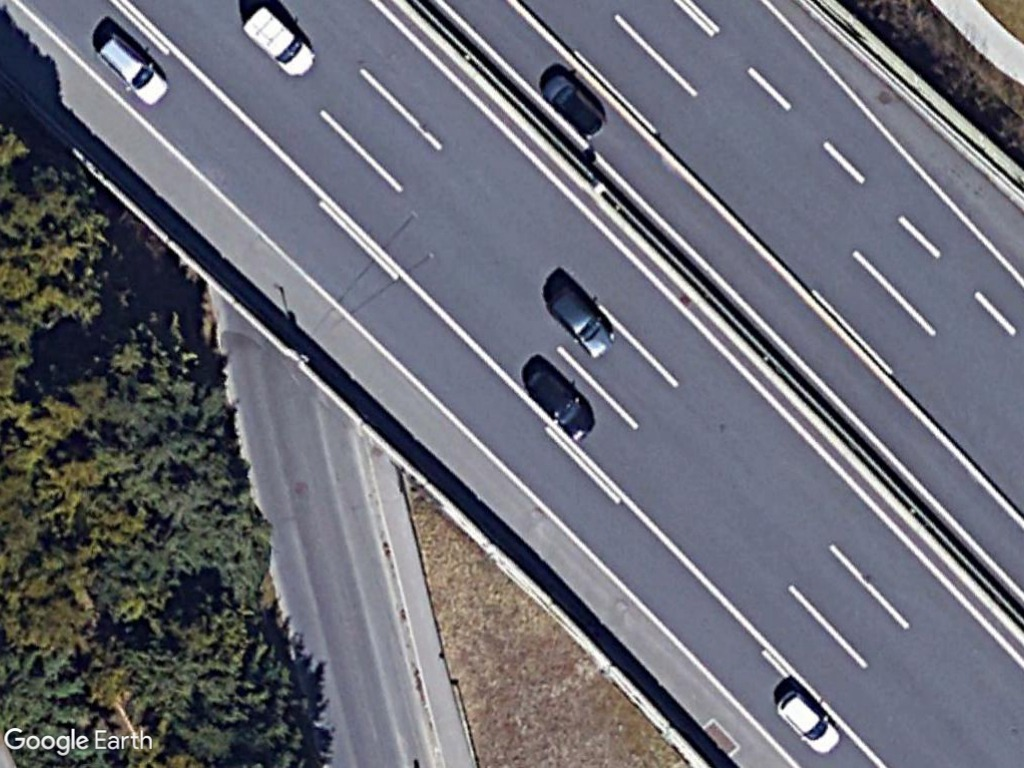car: (92, 33, 173, 110), (545, 286, 618, 359), (772, 685, 843, 758)
van: (237, 5, 318, 79)
